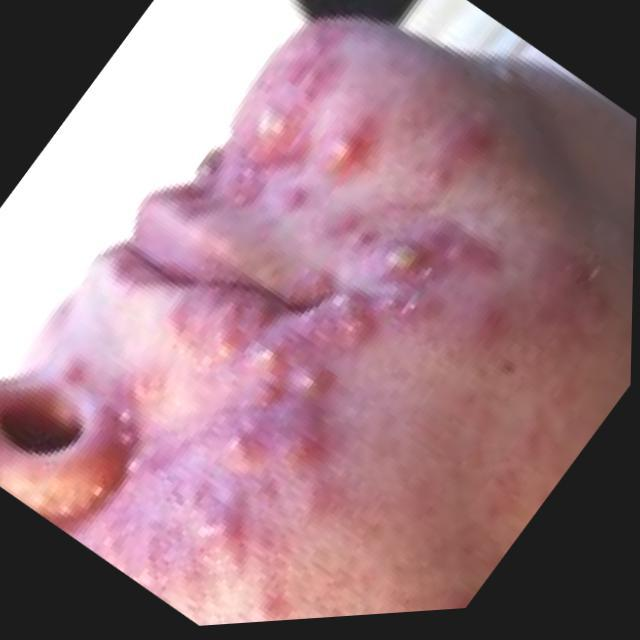cyst: (252, 382, 276, 518), (326, 116, 372, 176), (280, 419, 320, 484), (260, 88, 295, 147), (455, 296, 497, 342), (191, 493, 225, 548), (453, 112, 484, 164), (423, 167, 461, 207), (337, 290, 367, 340), (206, 431, 246, 467), (234, 164, 263, 212), (75, 478, 116, 510), (317, 220, 371, 244), (168, 302, 198, 343), (387, 296, 436, 321), (196, 136, 219, 189), (383, 241, 417, 276), (119, 434, 150, 471), (302, 364, 327, 397), (456, 242, 481, 274), (255, 345, 283, 372), (282, 183, 307, 211), (428, 219, 449, 251), (214, 333, 238, 360), (305, 272, 327, 298), (114, 408, 136, 434)
